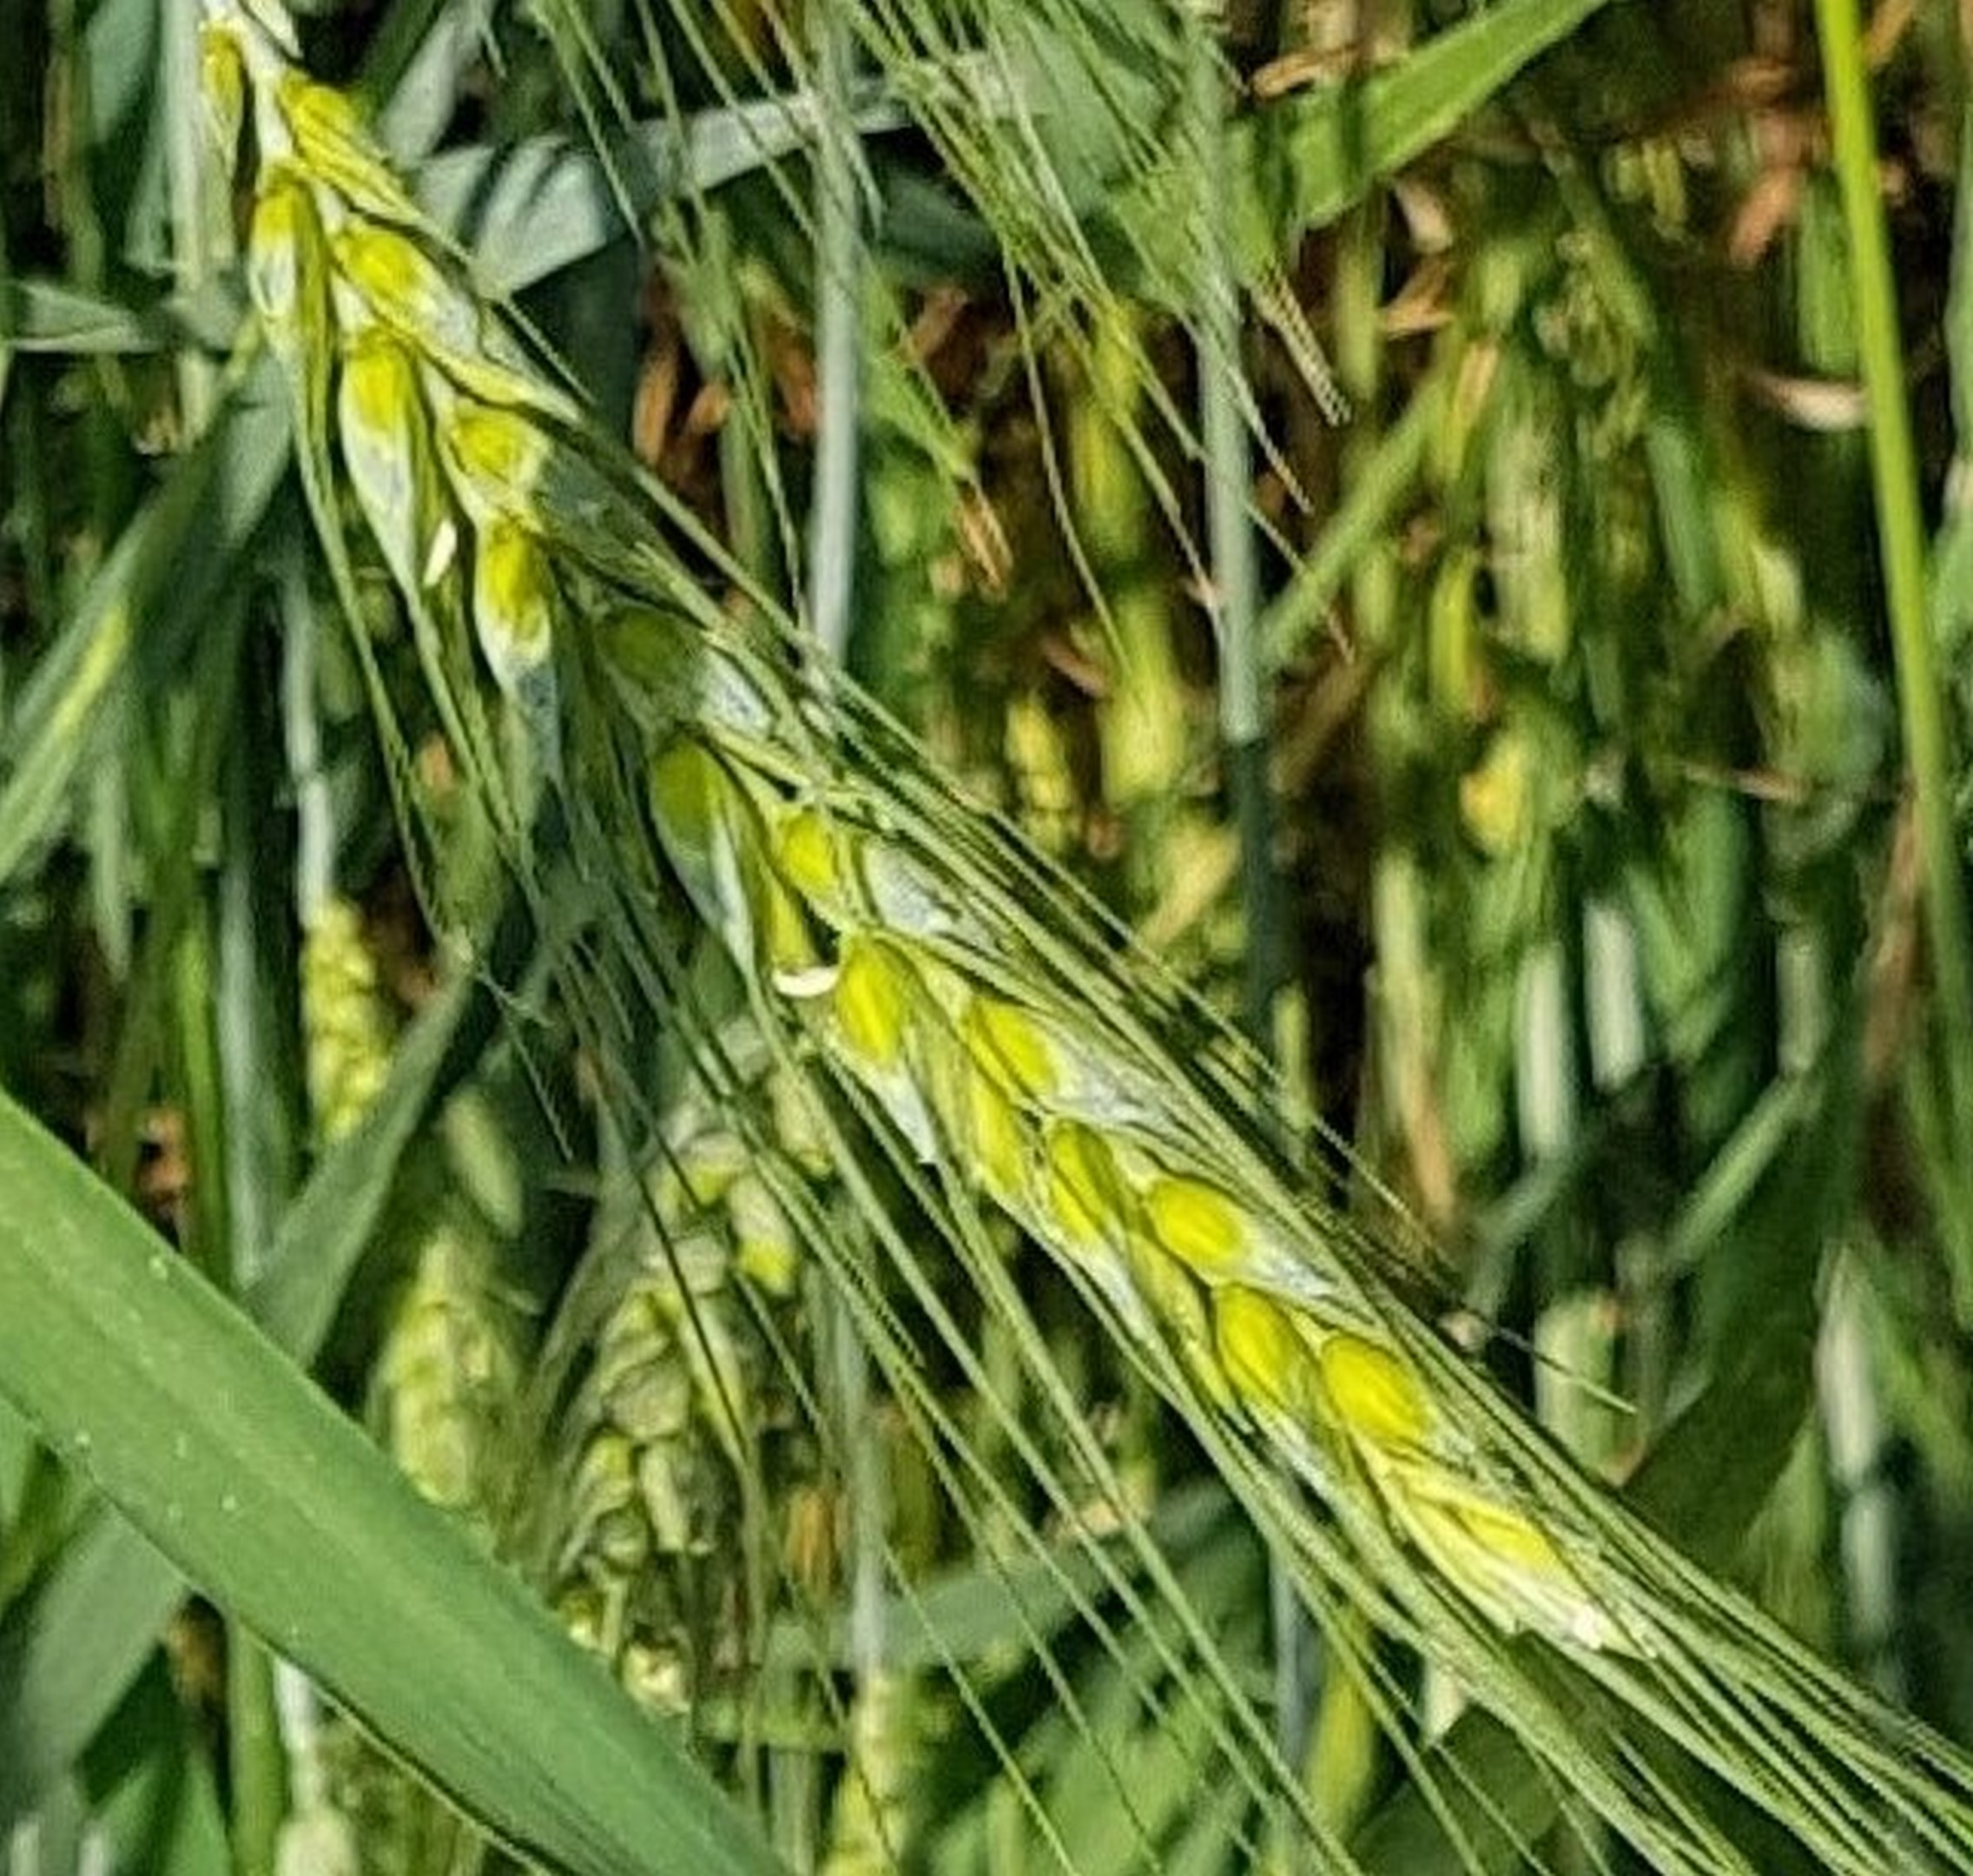Healthy Wheat: (231, 141, 1585, 1580)
